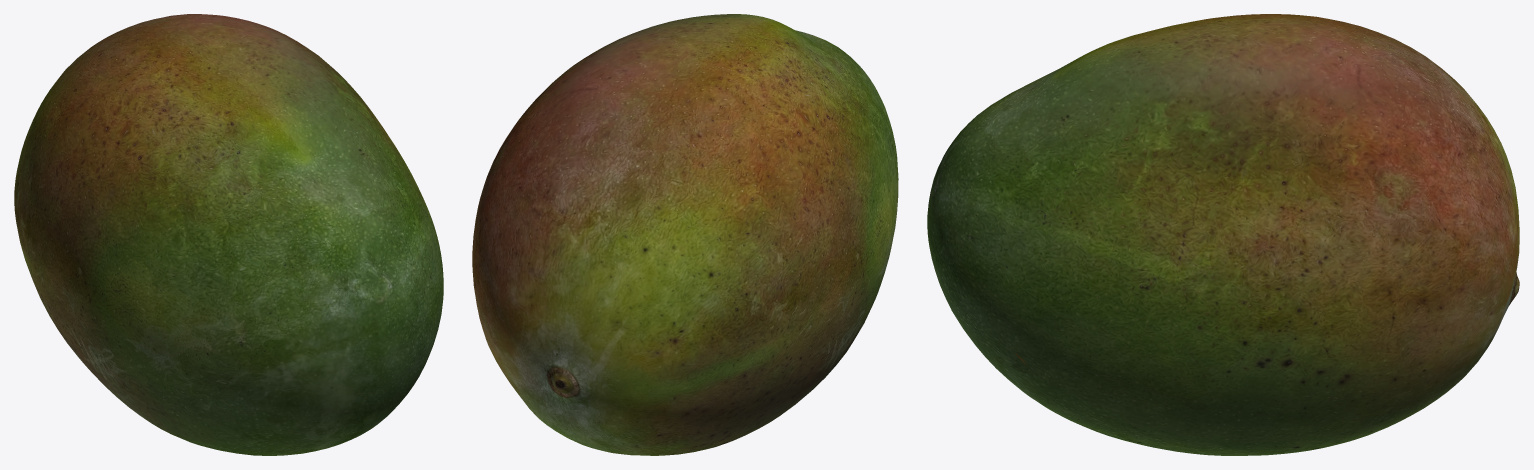
Rendered from mango.glb.
3 views of the same model, side by side, from view 1: azimuth 30°, elevation 25°; view 2: azimuth 150°, elevation 25°; view 3: azimuth 270°, elevation 25° (orthographic). The views are drawn at different scales.
Visible parts, largest first — view 1: Mango_LowPoly_1; view 2: Mango_LowPoly_1; view 3: Mango_LowPoly_1.
Boxes of the visible parts, x1,y1,x2,y2 form: Mango_LowPoly_1: (14, 14, 443, 455); Mango_LowPoly_1: (472, 14, 898, 455); Mango_LowPoly_1: (927, 14, 1519, 455).
Bounding box in the file's own units: 0.0809 × 0.0917 × 0.121.
1 material, 1 textured.
